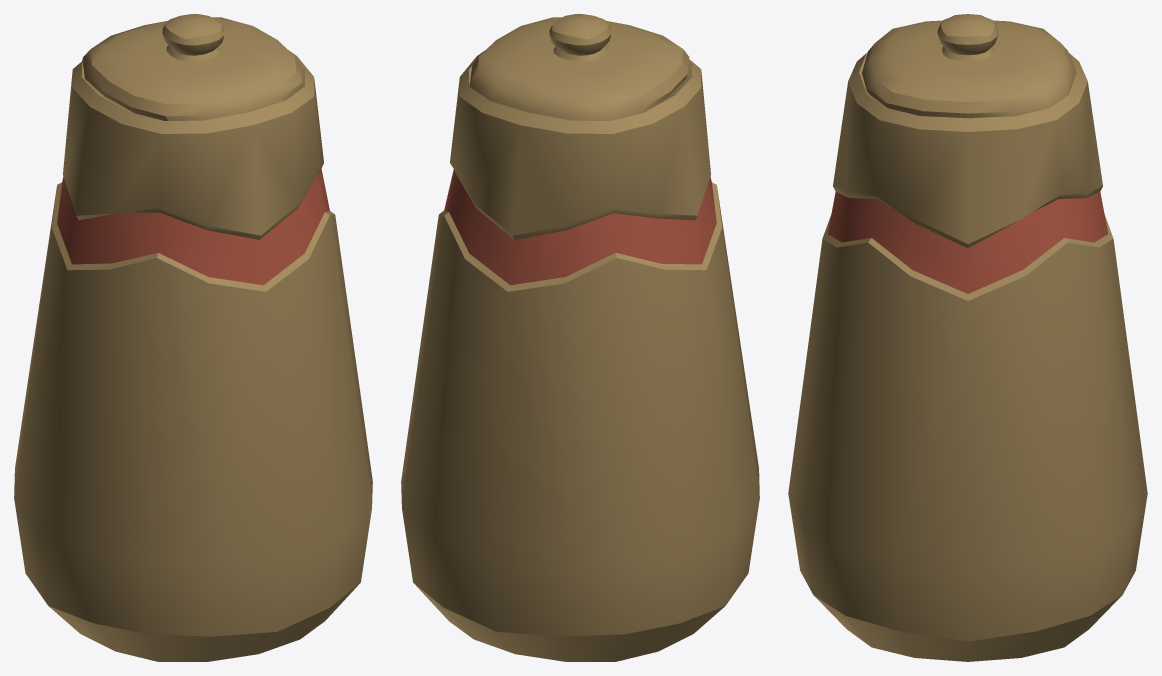
The model's file is Pot3.glb.
The picture shows the model from 3 angles, left to right: view 1: azimuth 30°, elevation 25°; view 2: azimuth 150°, elevation 25°; view 3: azimuth 270°, elevation 25°; orthographic projection.
Visible parts, largest first — view 1: Pot3; view 2: Pot3; view 3: Pot3.
Part boxes in pixels (x1=…): Pot3: x1=14, y1=14, x2=372, y2=661; Pot3: x1=401, y1=14, x2=759, y2=661; Pot3: x1=788, y1=14, x2=1147, y2=661.
Bounding box in the file's own units: 0.4633 × 0.8353 × 0.4633.
